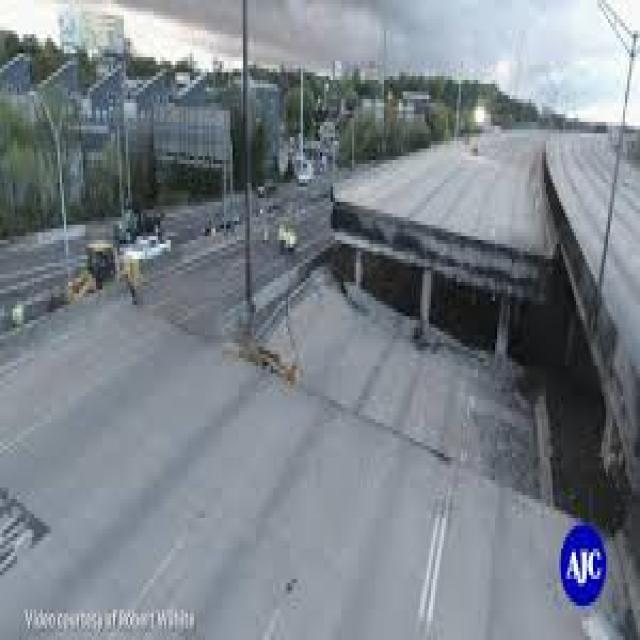bridge collapse: (106, 76, 640, 640)
